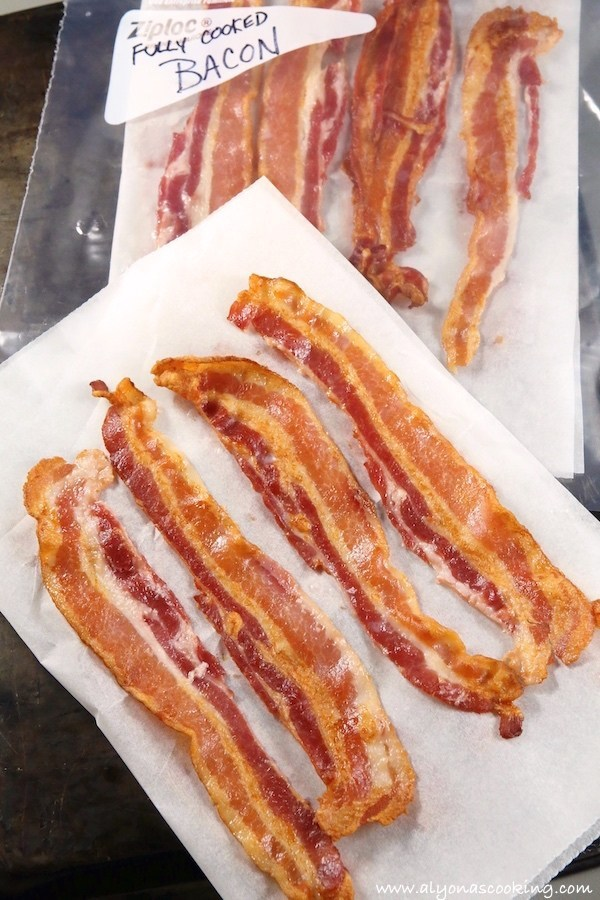bacon: (17, 272, 578, 853)
